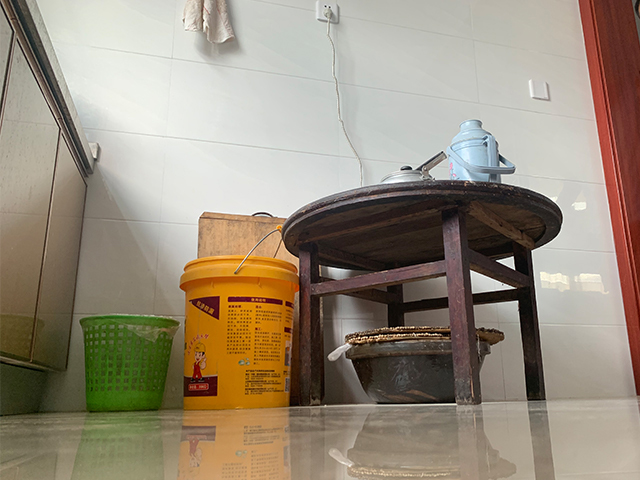cabinet: (1, 1, 95, 417)
table: (280, 179, 564, 408)
trashcan: (78, 314, 181, 413)
